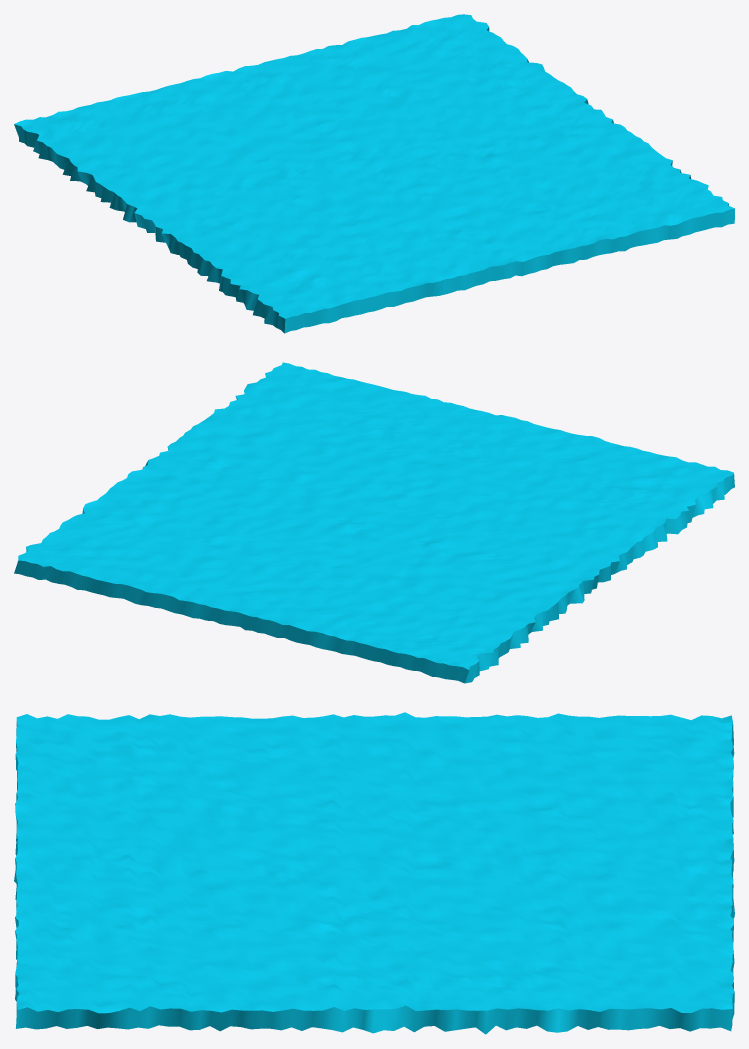
The model's file is Floor_main.fbx.
3 views of the same model, one above another, from view 1: azimuth 30°, elevation 25°; view 2: azimuth 150°, elevation 25°; view 3: azimuth 270°, elevation 25° (orthographic). The views are drawn at different scales.
Visible parts, largest first — view 1: Gound_low; view 2: Gound_low; view 3: Gound_low.
Part boxes in pixels (bbox=[...]): Gound_low: bbox=[14, 14, 734, 333]; Gound_low: bbox=[14, 362, 734, 683]; Gound_low: bbox=[14, 712, 734, 1034].
Bounding box in the file's own units: 317058 × 11814 × 319357.
